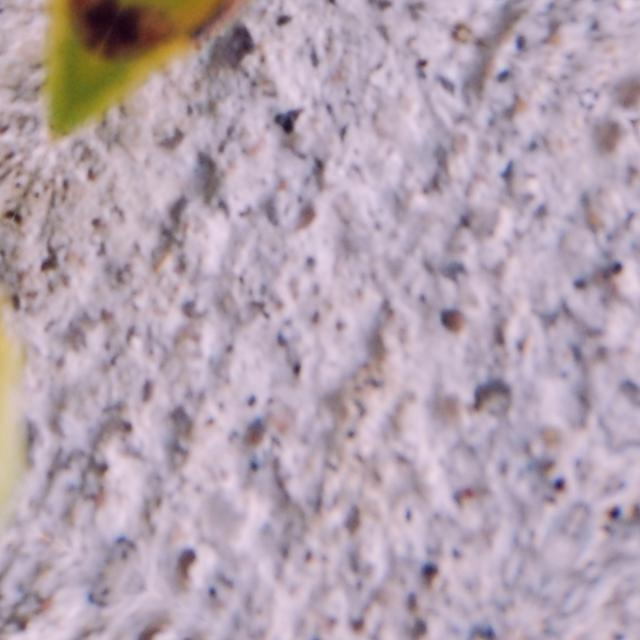Tomato Early blight leaf: (0, 0, 358, 549)
